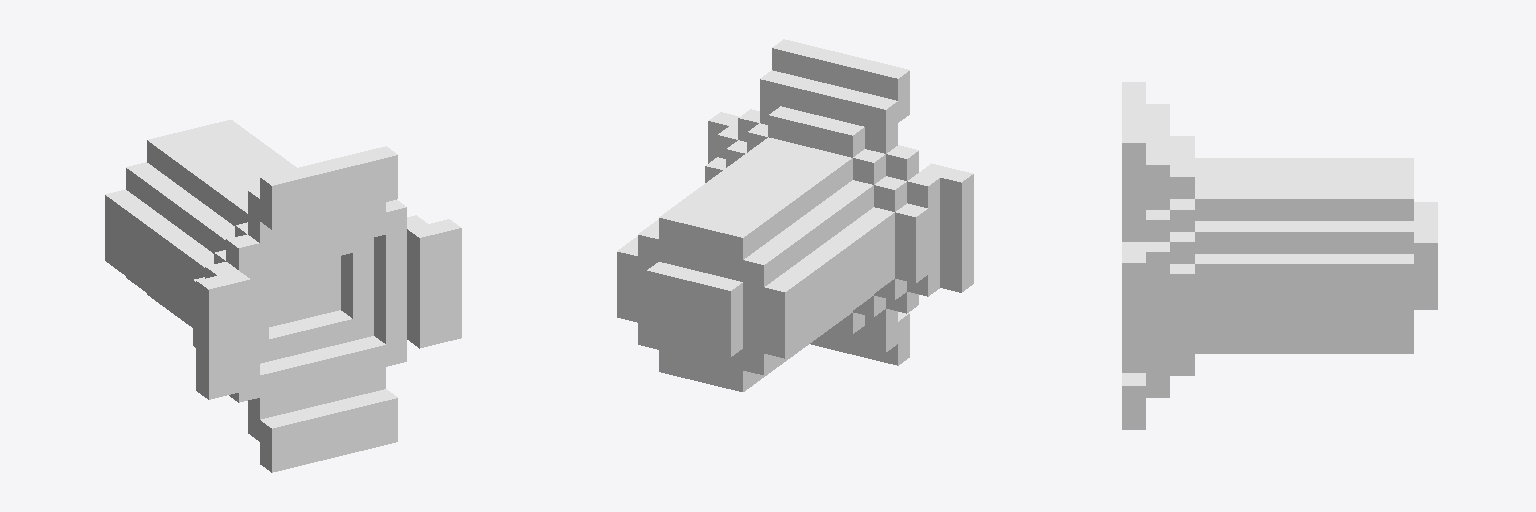
The model's file is Spot.obj.
The picture shows the model from 3 angles: view 1: azimuth 30°, elevation 25°; view 2: azimuth 150°, elevation 25°; view 3: azimuth 270°, elevation 25°; orthographic projection.
Parts seen in each view (by area): view 1: object 1; view 2: object 1; view 3: object 1.
Boxes of the visible parts, box(x1,y1,x2,y2) form: object 1: box(105, 120, 461, 472); object 1: box(617, 39, 973, 391); object 1: box(1122, 82, 1437, 429).
Bounding box in the file's own units: 1.2 × 1.3 × 1.3.